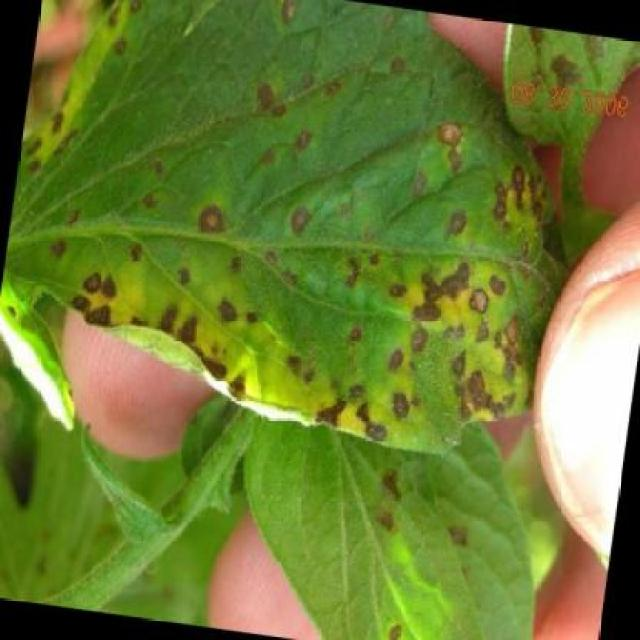Septoria leaf spot: (3, 0, 606, 446)
